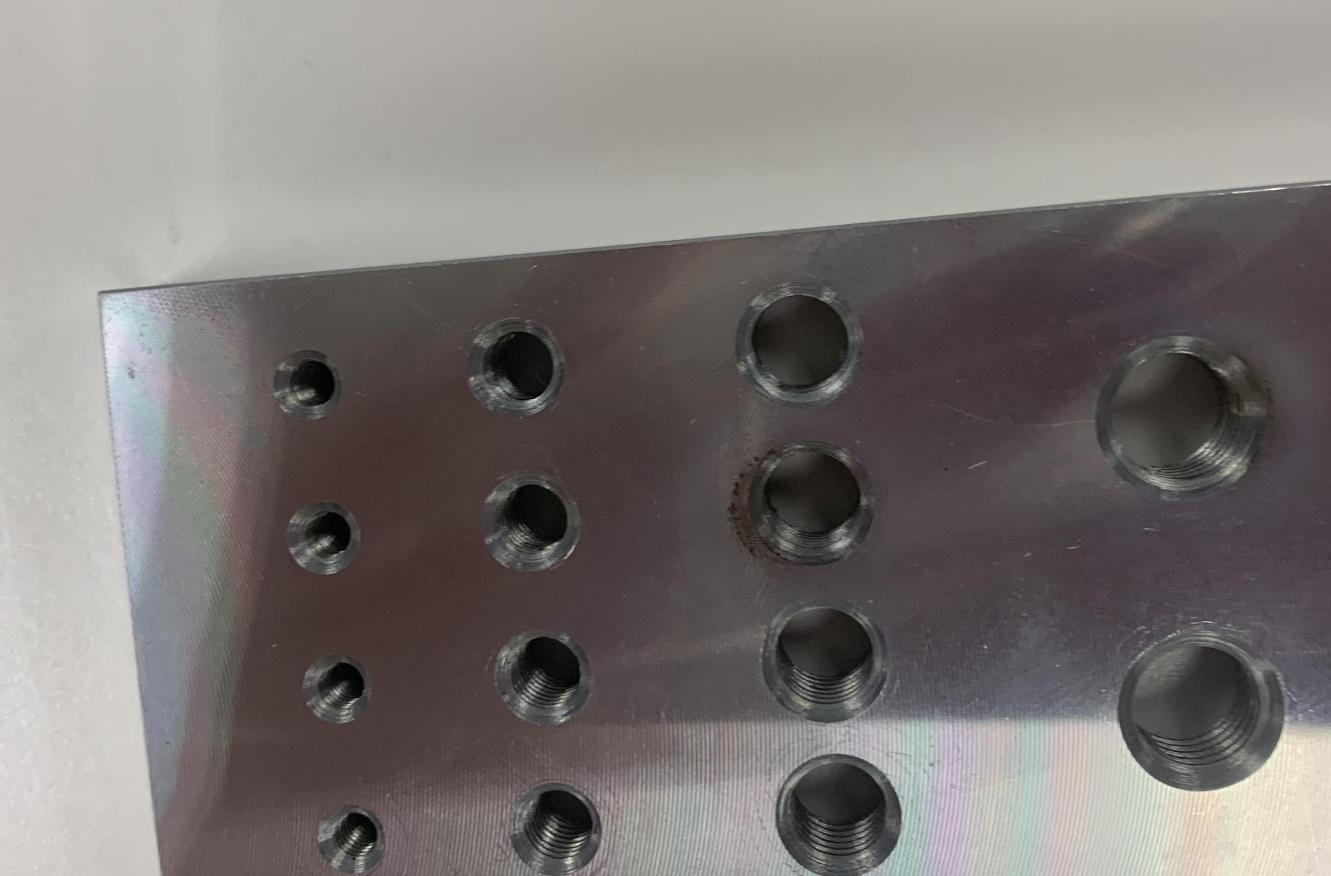hole: (1085, 315, 1287, 525), (1107, 608, 1305, 820), (732, 434, 892, 576), (761, 747, 917, 876), (722, 276, 866, 414), (756, 598, 900, 732), (473, 462, 592, 580), (252, 332, 366, 450), (460, 311, 572, 427), (489, 616, 603, 726), (499, 765, 610, 876), (270, 481, 370, 581), (307, 789, 411, 876), (291, 642, 383, 730)
